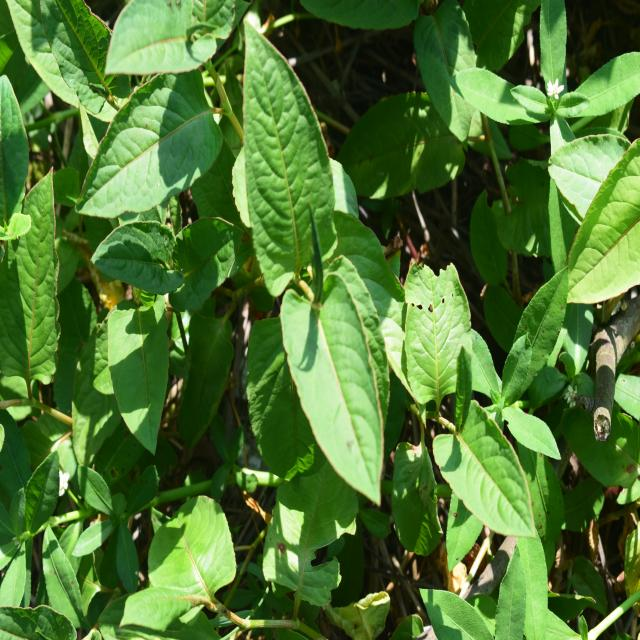Chinese_knotweed: (235, 34, 395, 502), (400, 243, 540, 526)
